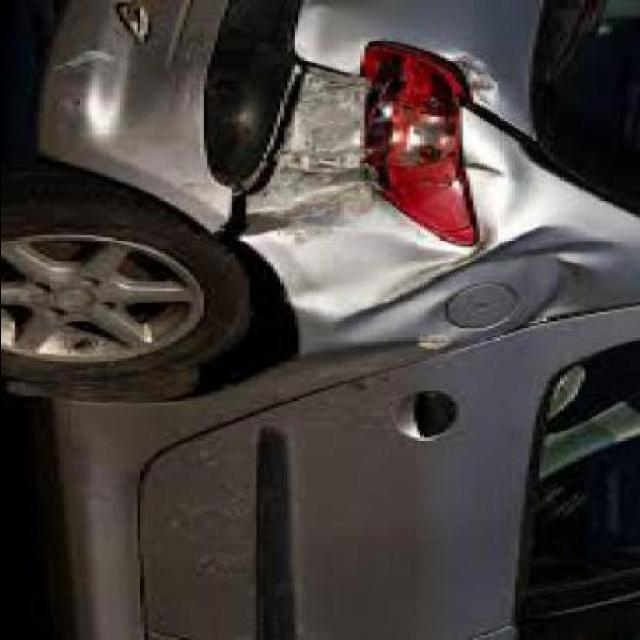quaterpanel-dent: (161, 140, 577, 331)
